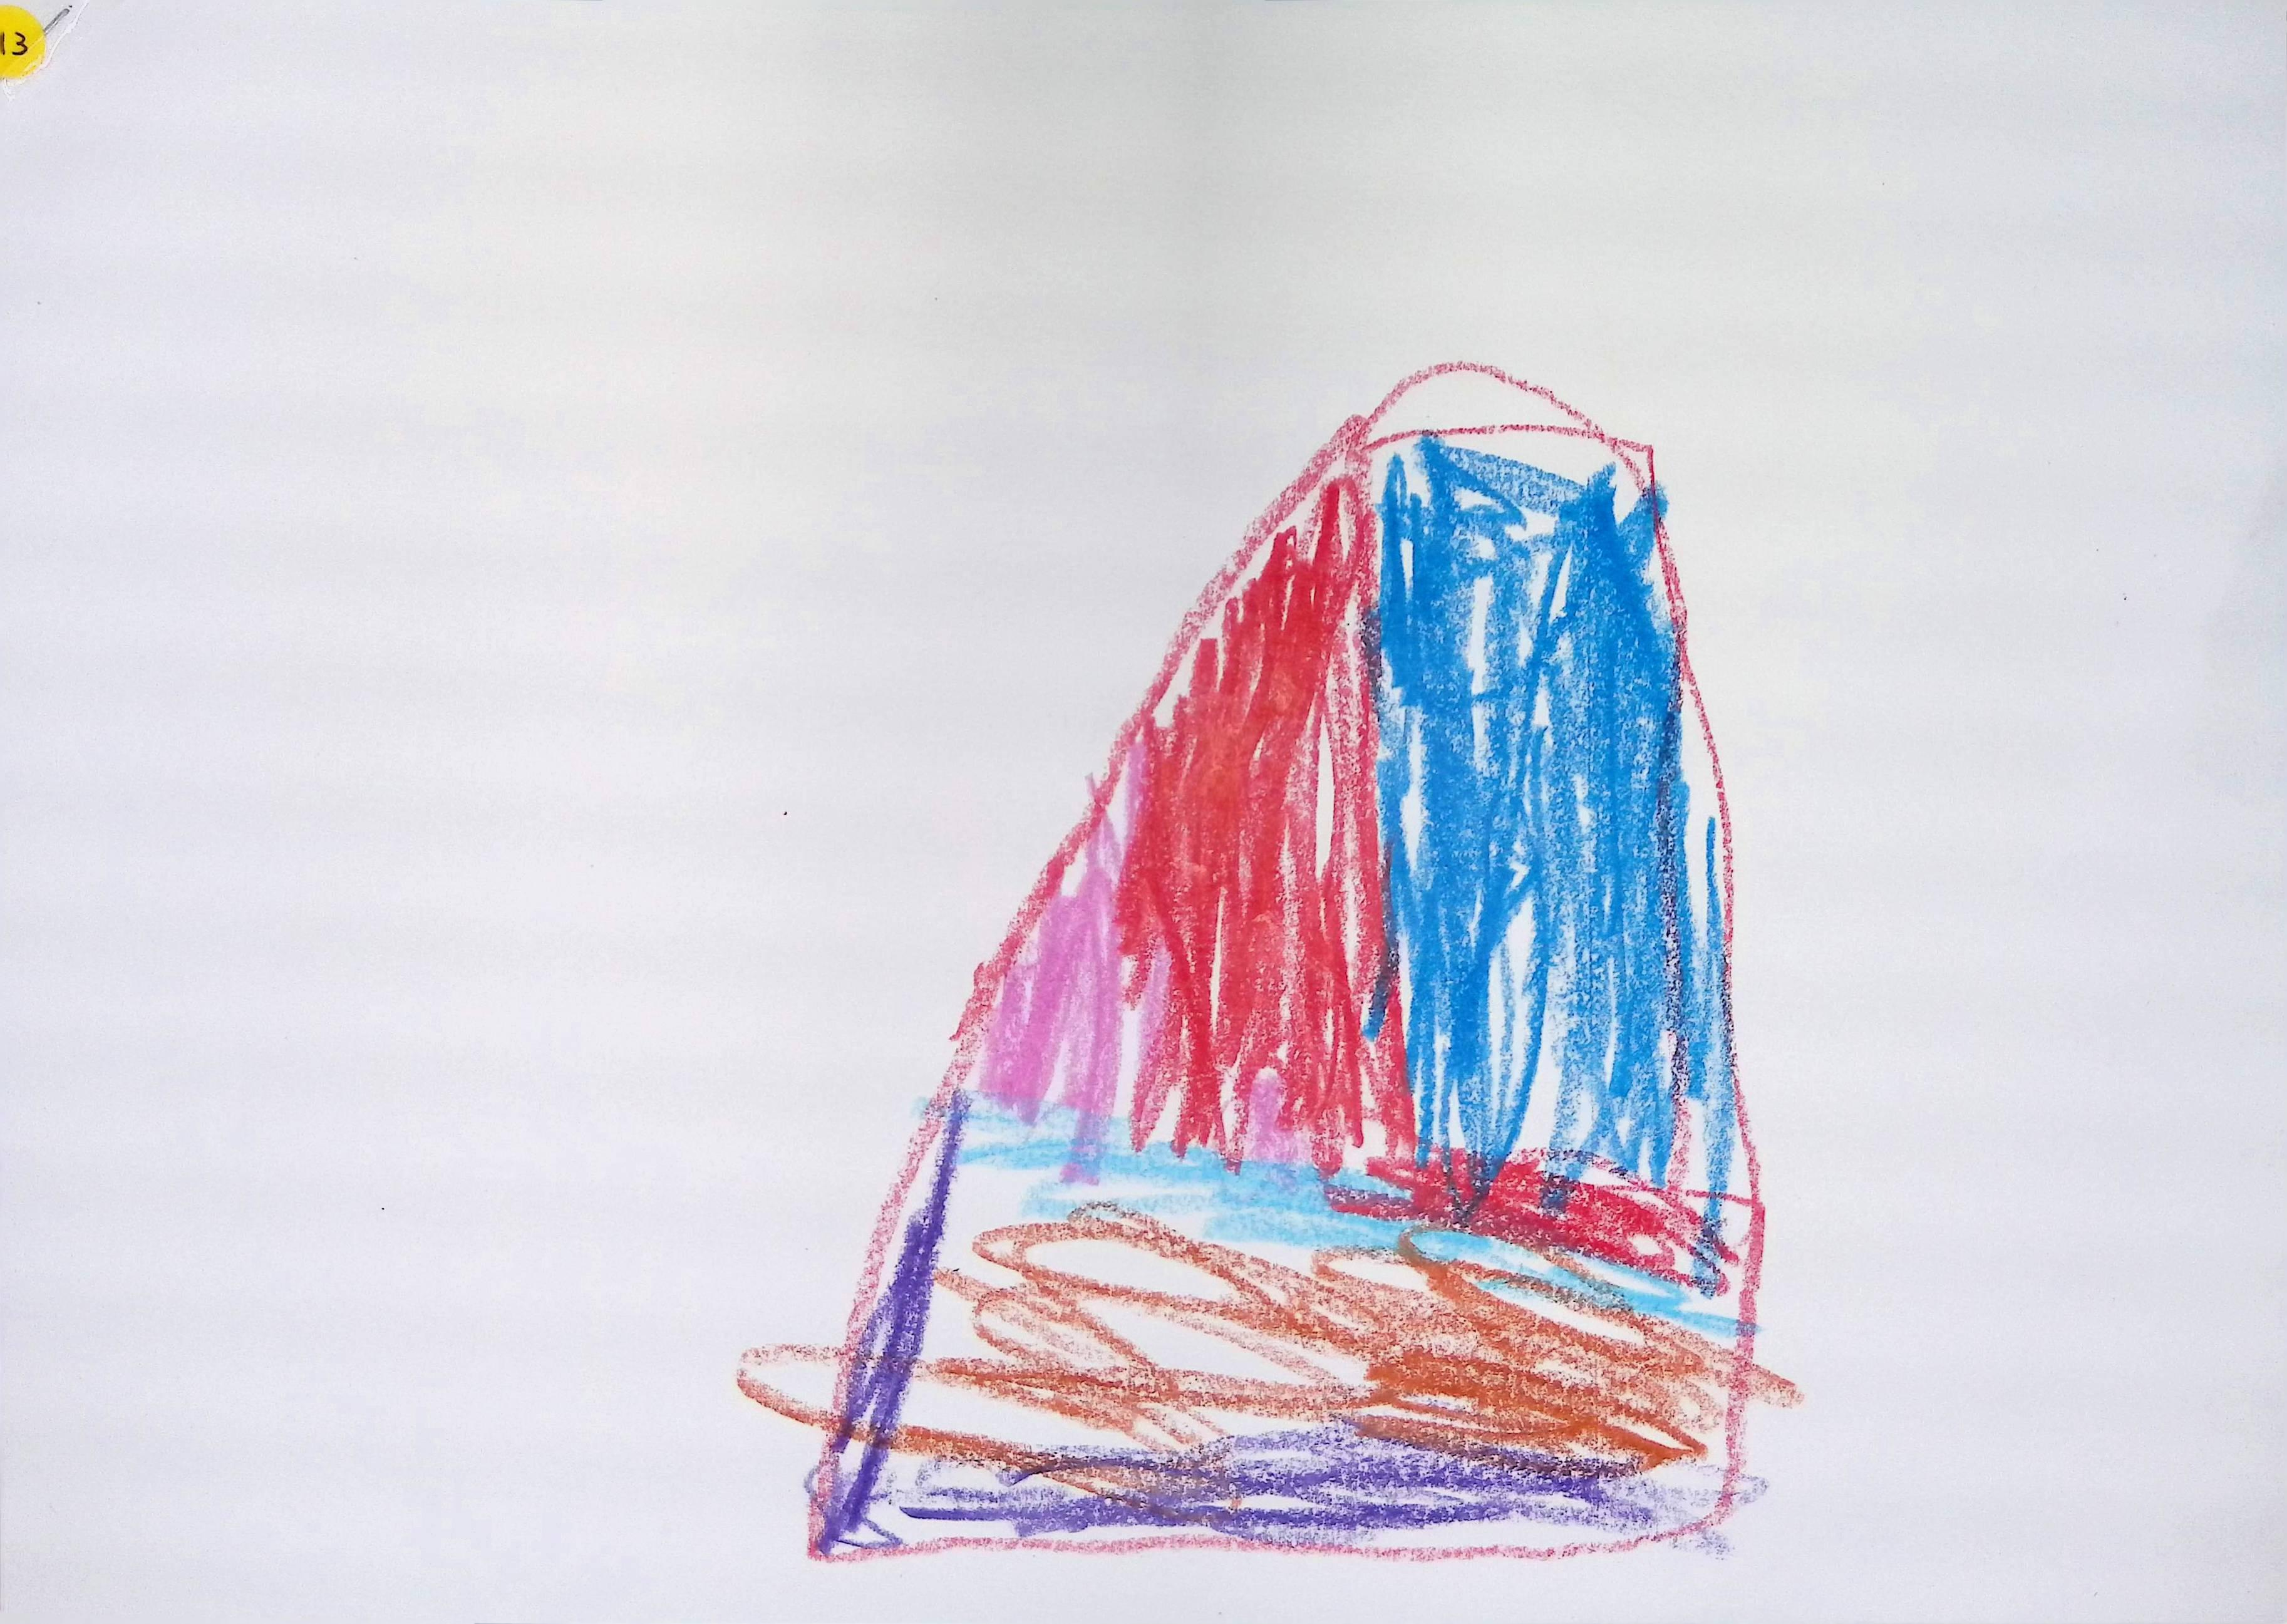house: (739, 364, 1797, 1559)
